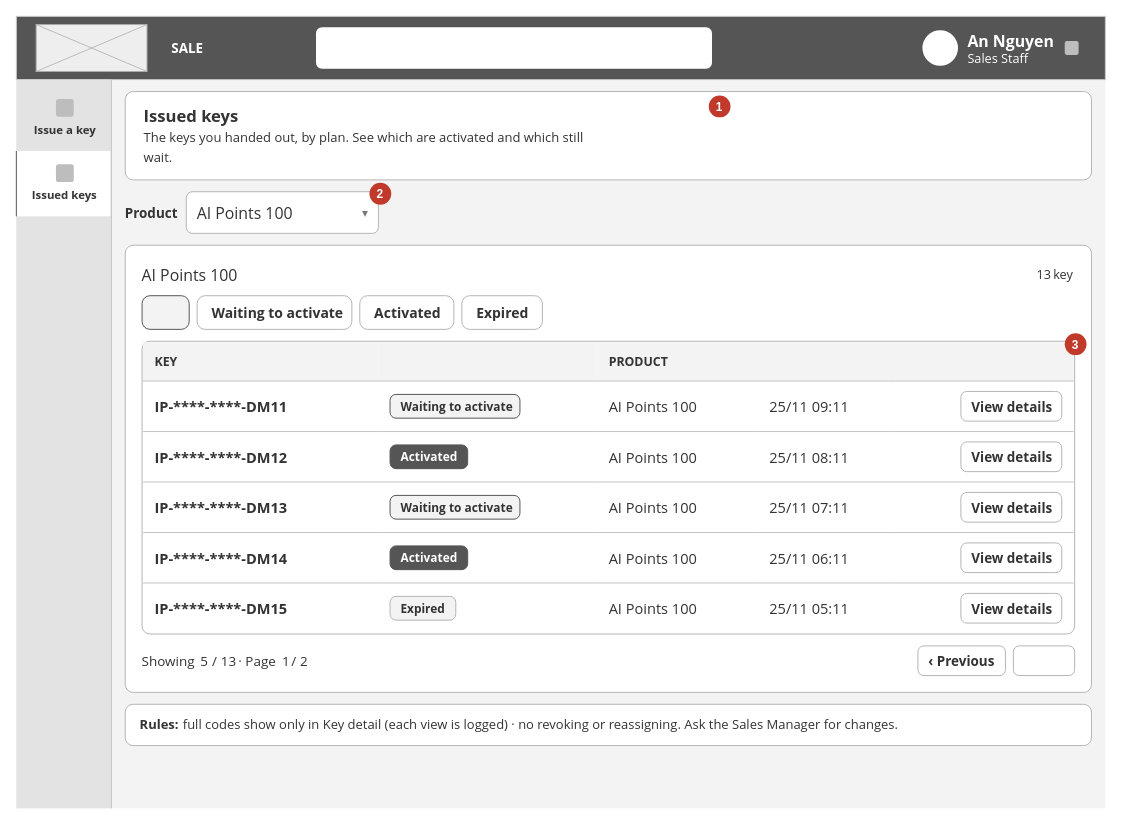
The diagram is 1122 pixels wide and 825 high, and some of its shapes have lost their labels. The shapes that lost their labels are listed below. From the top down, each one's centre as x and y in pixels, then its label:
At (x=514, y=47): "Search this page".
At (x=940, y=47): "AN".
At (x=165, y=312): "All".
At (x=487, y=361): "STATUS".
At (x=826, y=361): "ISSUED ON".
At (x=1043, y=660): "Next ›".
